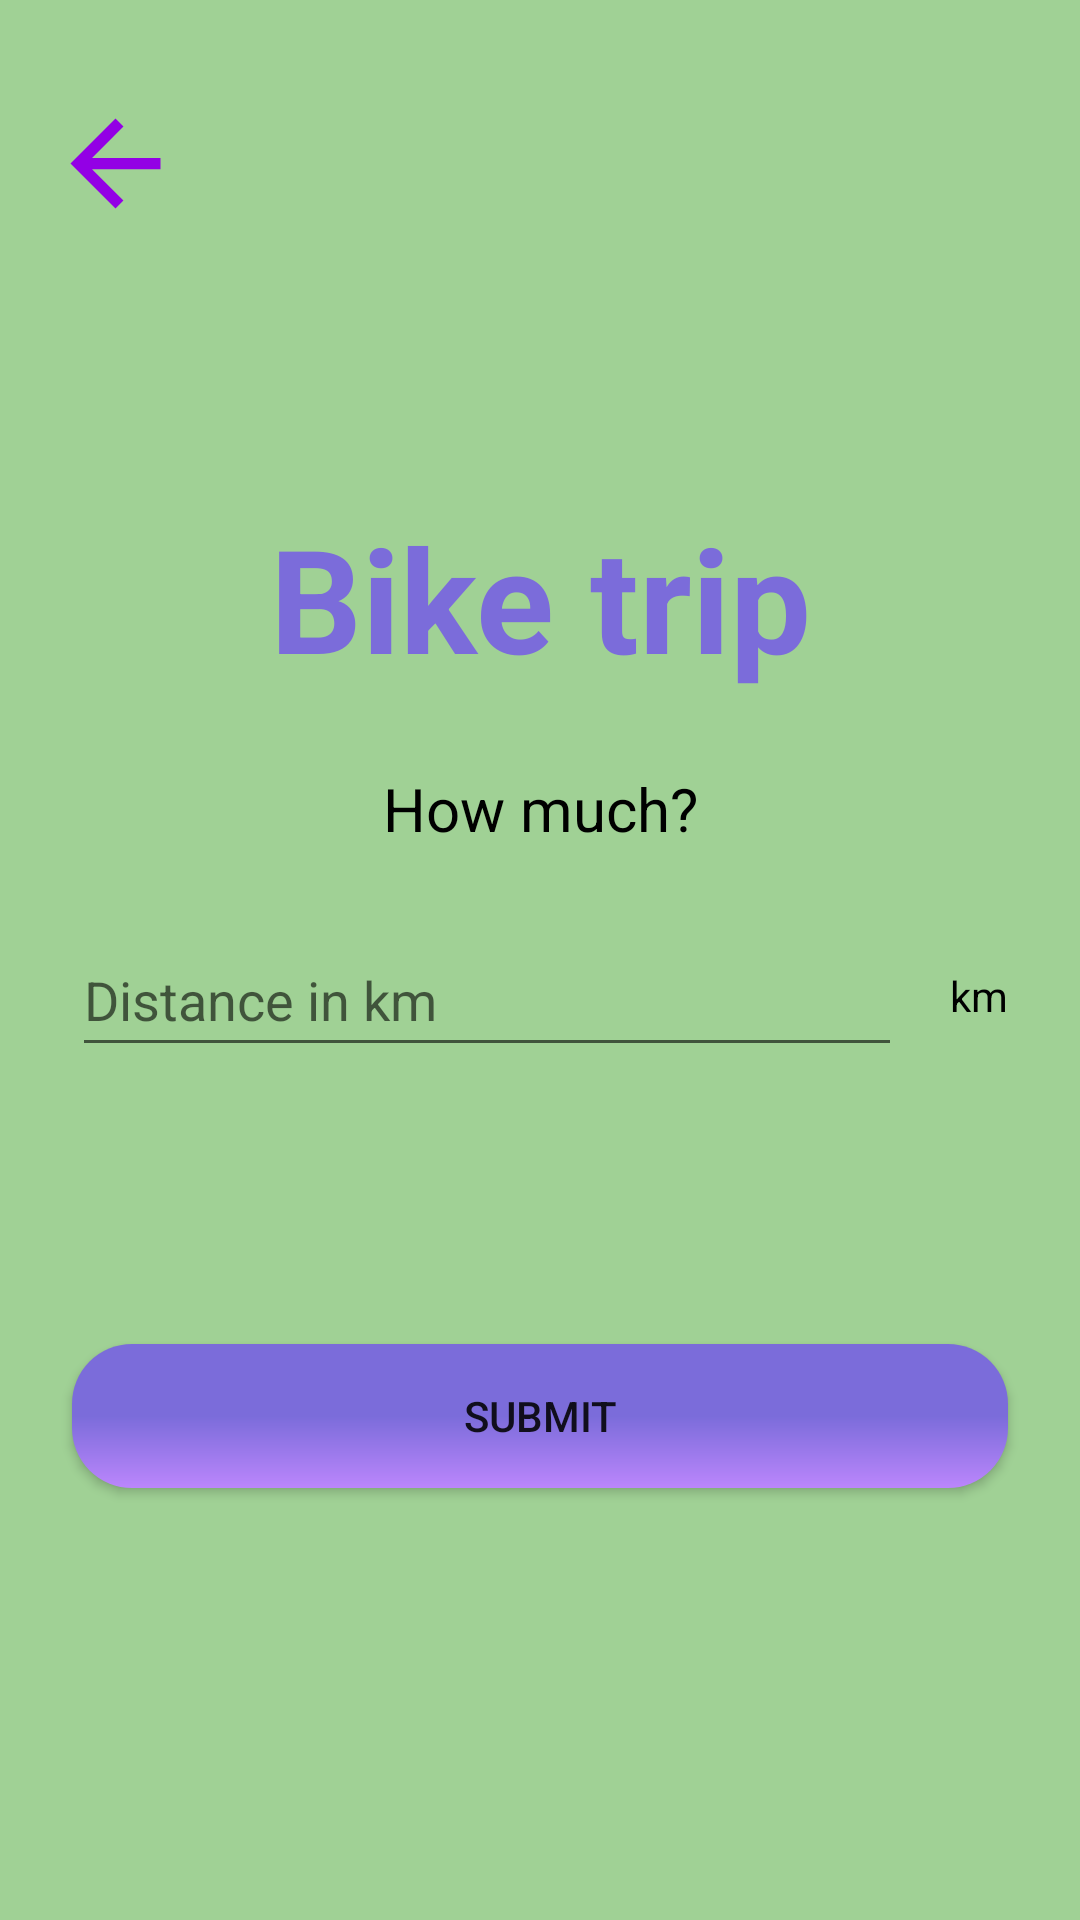

Named icons in this screenshot (1080*1920) and their bounding boxes, (x1, y1, x2, y2):
arrow back: (70, 118, 161, 209)
